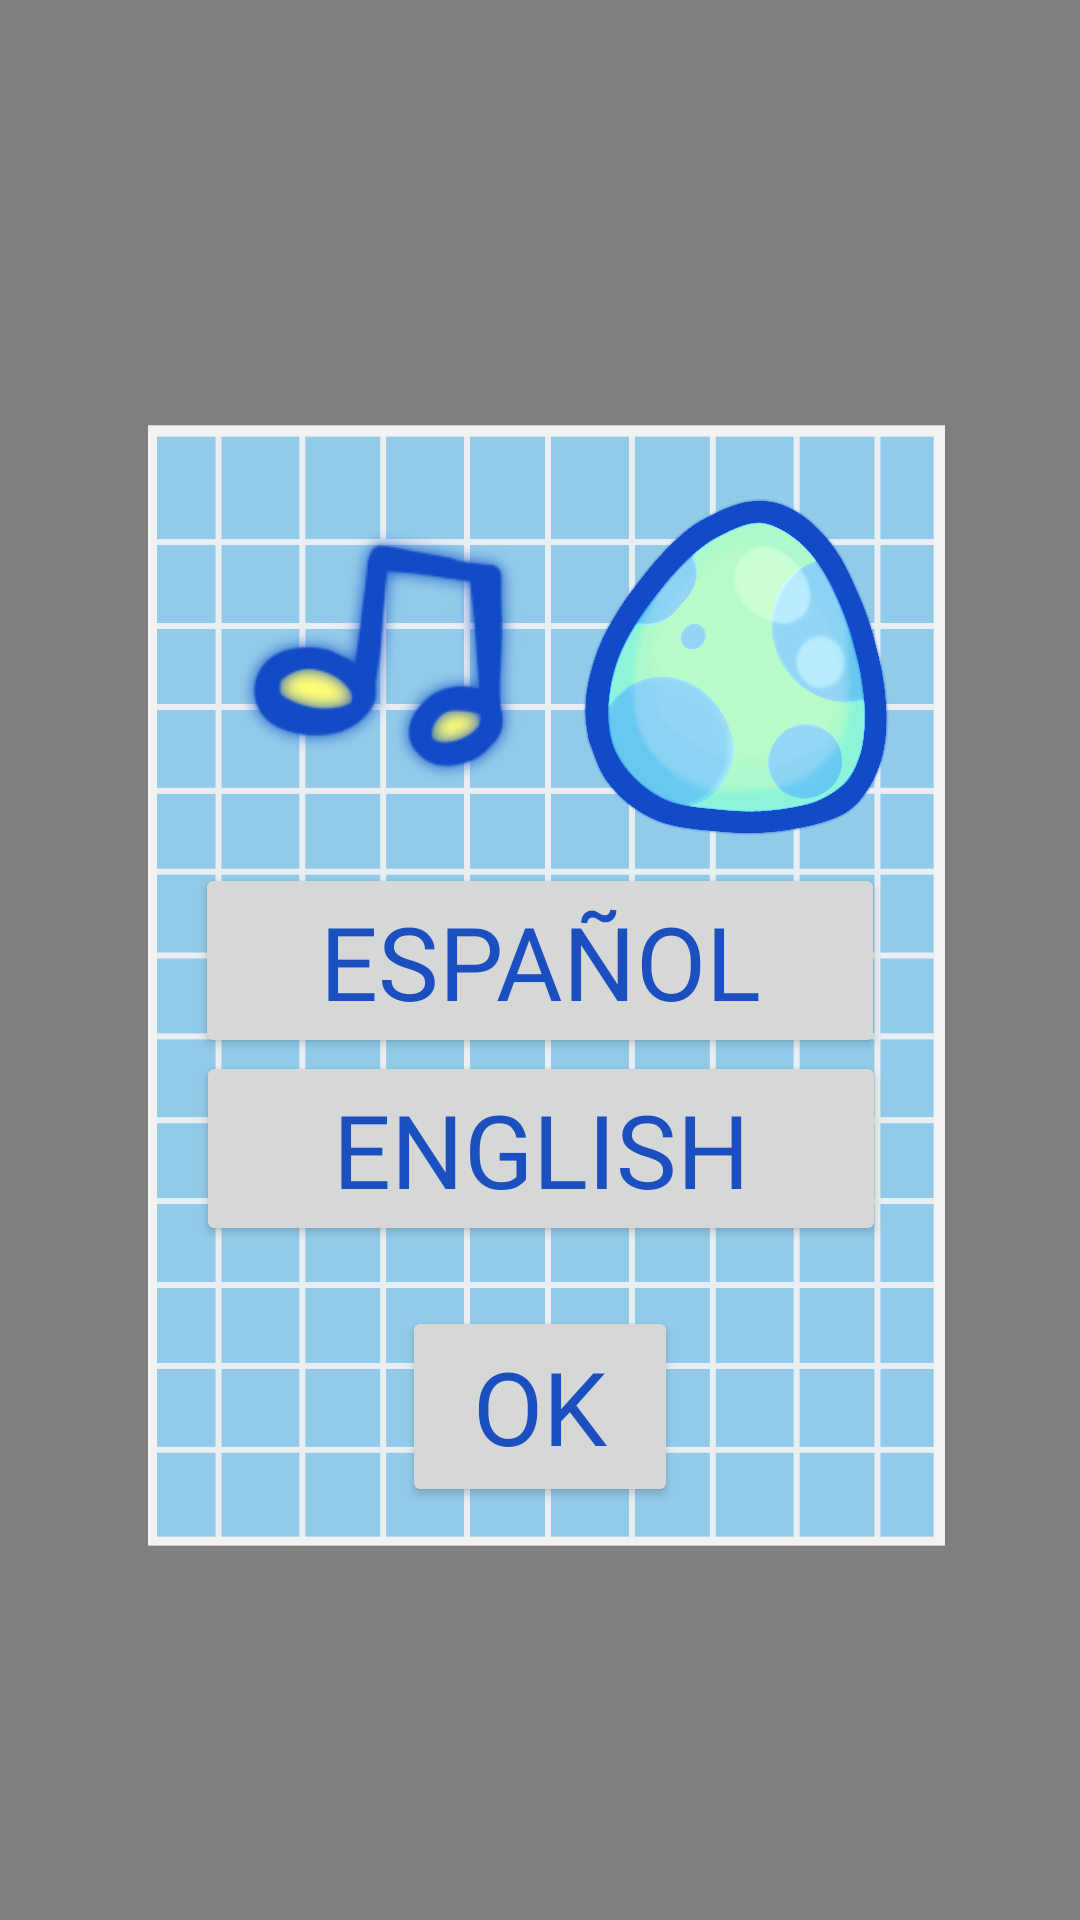

Screen size 1080×1920. Icon name, then its center in pixels as (x,y):
music: (381,656)
